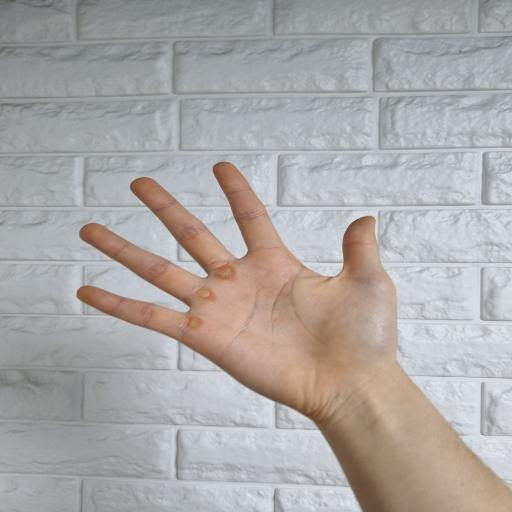Paper: (75, 162, 398, 424)
